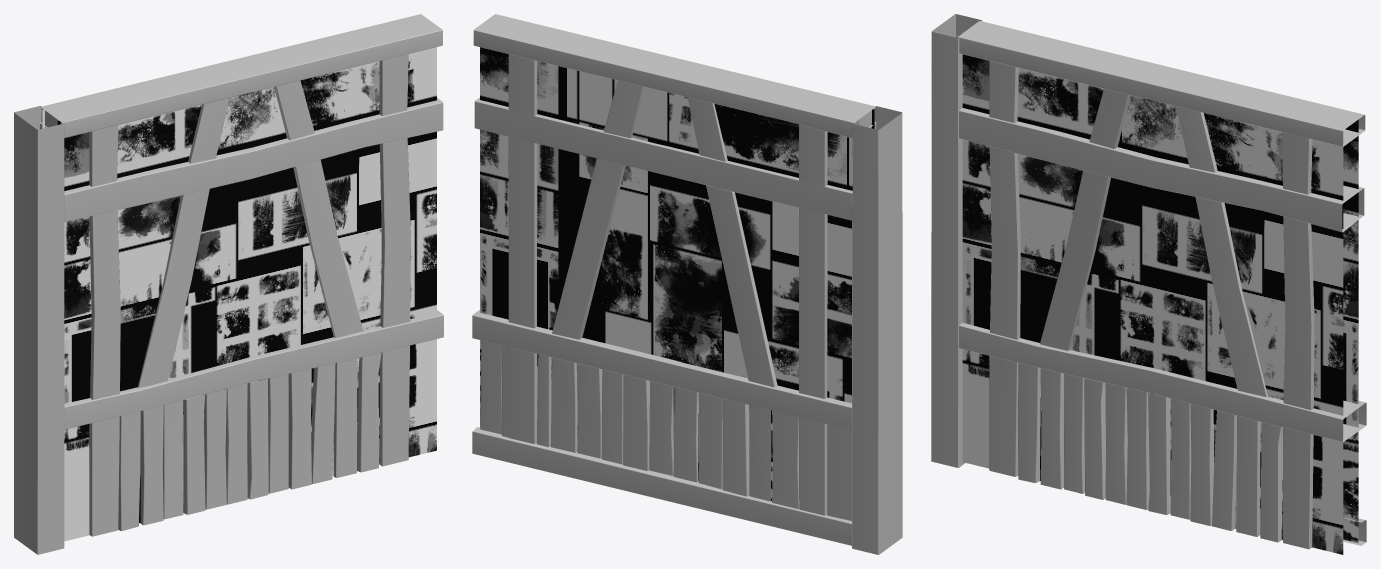
File: SM_wall03.fbx
3 renders of one model, left to right at view 1: azimuth 30°, elevation 25°; view 2: azimuth 150°, elevation 25°; view 3: azimuth 330°, elevation 25°, orthographic.
Parts seen in each view (by area): view 1: SM_wall03_LOD0; view 2: SM_wall03_LOD0; view 3: SM_wall03_LOD0.
Part boxes in pixels (x1,y1,x2,y2): SM_wall03_LOD0: (14,14,443,554); SM_wall03_LOD0: (472,14,902,554); SM_wall03_LOD0: (931,14,1366,554).
Bounding box in the file's own units: 303 × 31.03 × 302.
